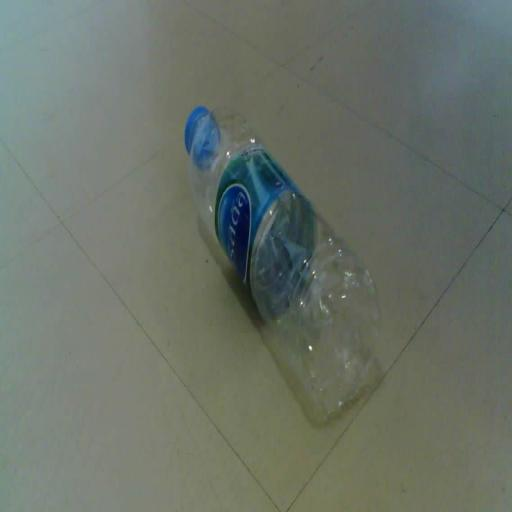bottle: (186, 108, 381, 422)
